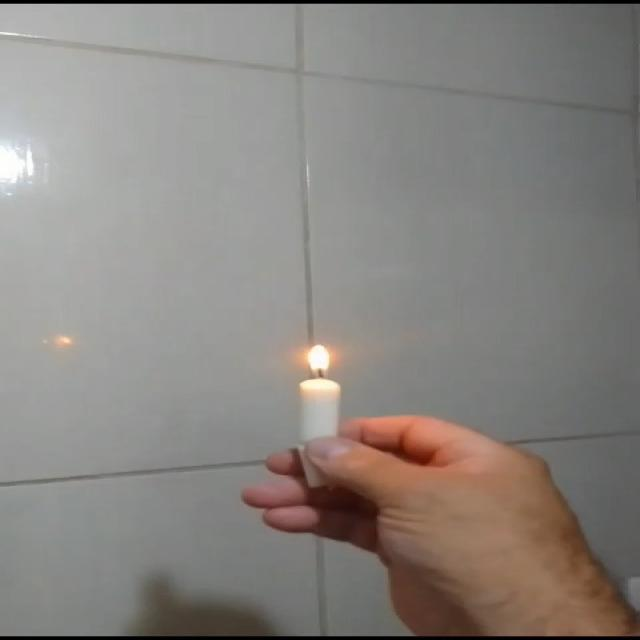fogo-ypXI: (300, 340, 336, 379)
